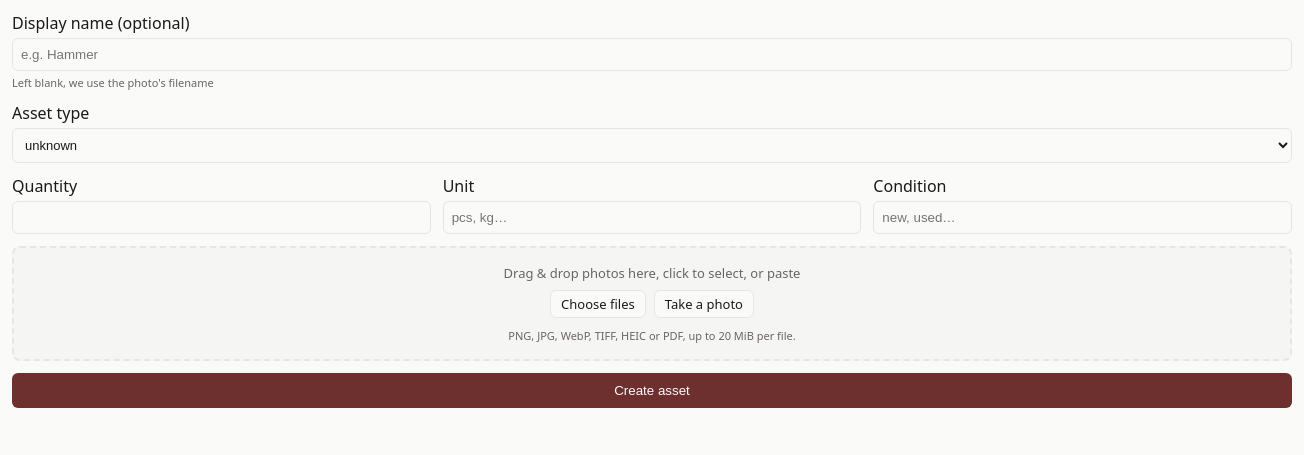
Test: AssetForm › a nameless photoless submit is refused with a named error and sends nothing
Click the button "Create asset": (652, 390) x1=12 y1=373 x2=1292 y2=408
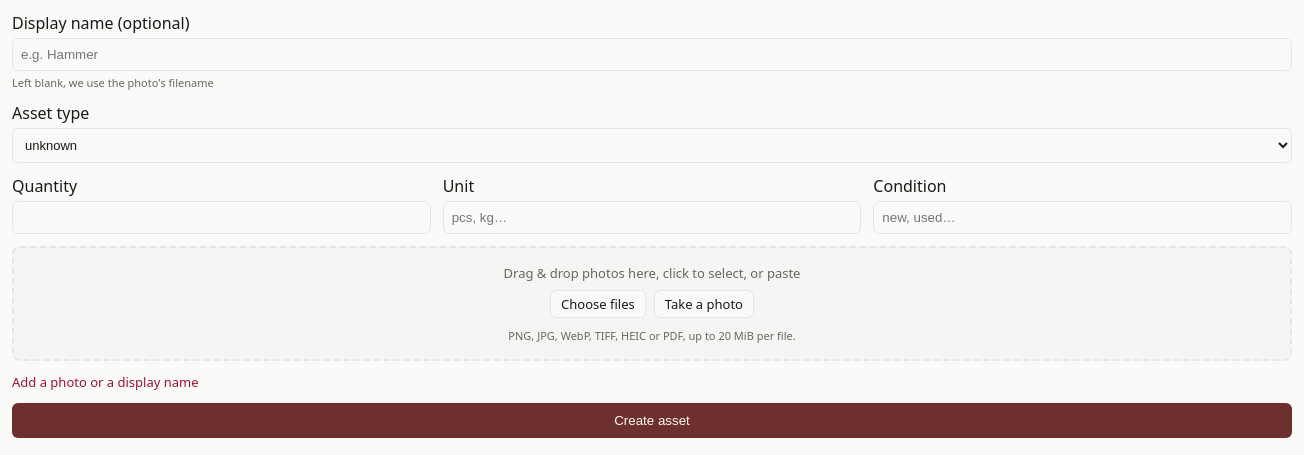
Expected: the text "Add a photo or a display name" is shown, x1=12 y1=373 x2=198 y2=391
